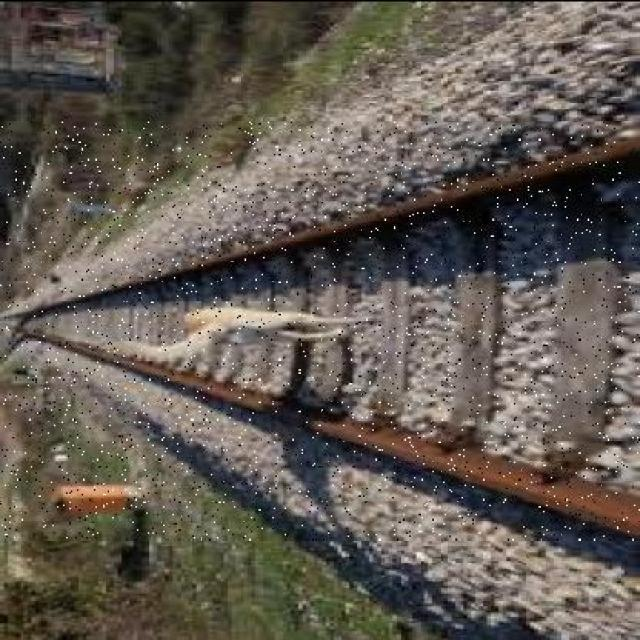danger: (98, 283, 408, 372)
rail: (0, 120, 640, 540)
